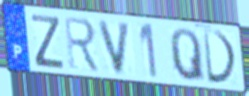1: (137, 21, 159, 81)
D: (201, 27, 239, 86)
Q: (168, 27, 207, 85)
R: (62, 15, 102, 75)
V: (97, 19, 133, 77)
Z: (30, 12, 66, 71)
